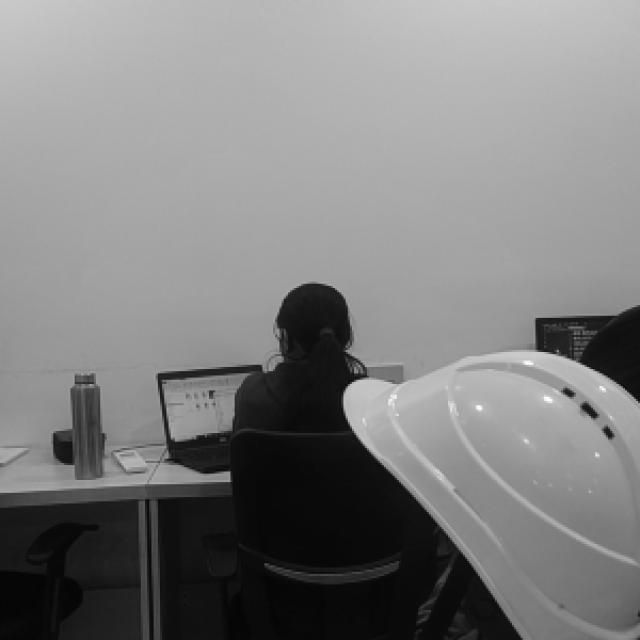safety_helmet: (343, 350, 640, 640)
